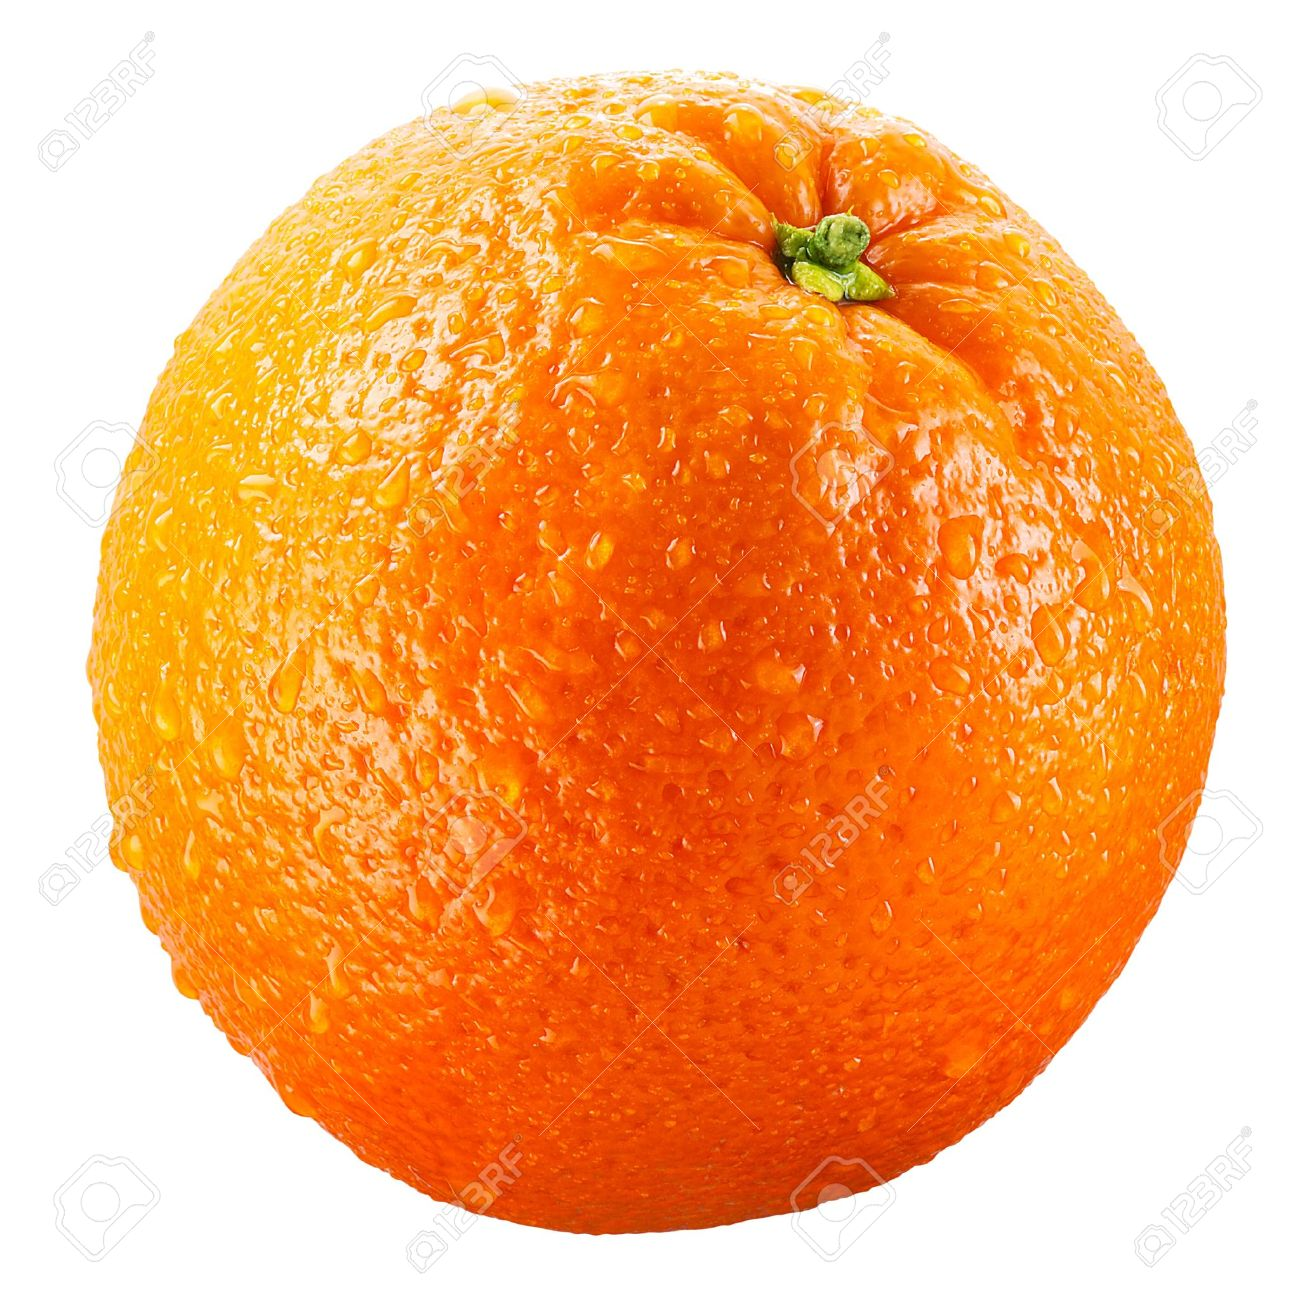orange: (67, 51, 1261, 1267)
